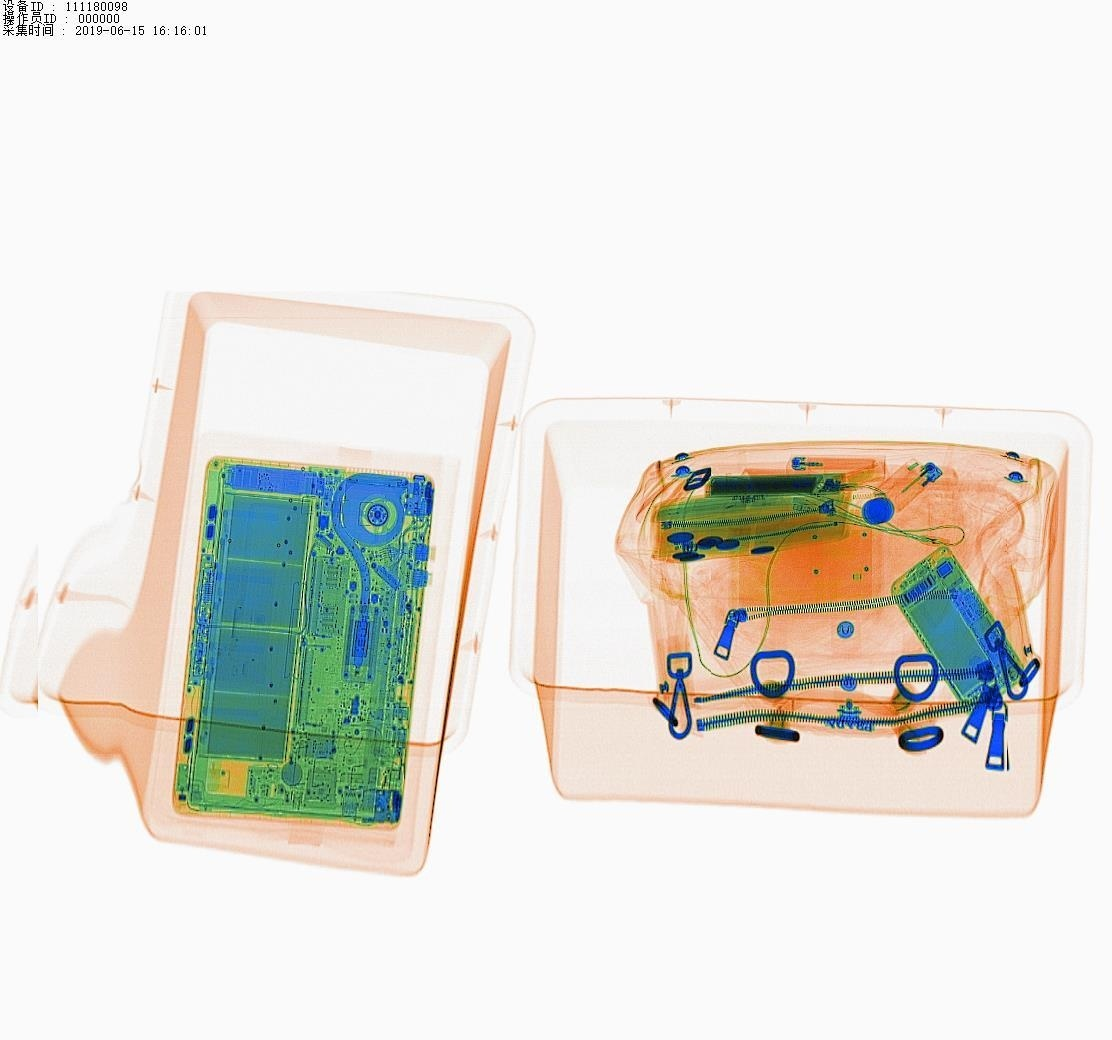NonmetallicFire: (870, 453, 947, 517), (786, 448, 889, 478)
